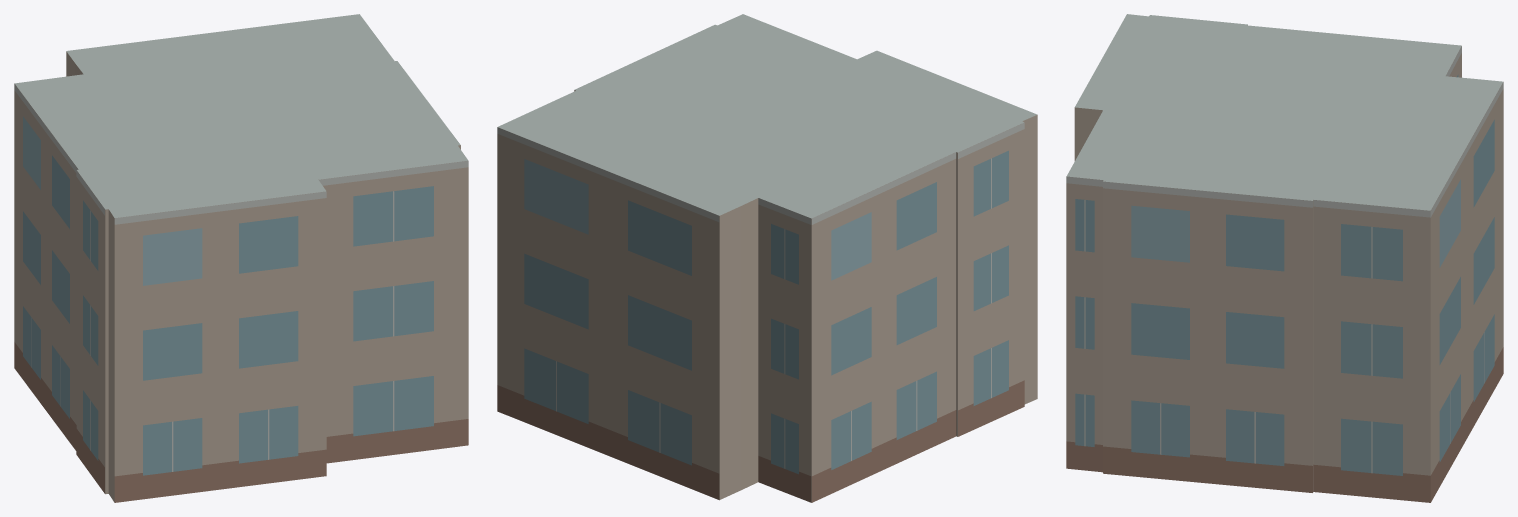
The model's file is survey-upis-32671168.glb.
The picture shows the model from 3 angles, left to right: view 1: azimuth 30°, elevation 25°; view 2: azimuth 150°, elevation 25°; view 3: azimuth 270°, elevation 25°; orthographic projection. The views are drawn at different scales.
Parts seen in each view (by area): view 1: survey-upis-32671168.tmp; view 2: survey-upis-32671168.tmp; view 3: survey-upis-32671168.tmp.
Part boxes in pixels (box(x1,y1,x2,y2)): survey-upis-32671168.tmp: box(14, 14, 468, 502); survey-upis-32671168.tmp: box(497, 14, 1037, 502); survey-upis-32671168.tmp: box(1066, 14, 1503, 502).
Size of the model in its own units: 15.18 by 10.5 by 14.25.
